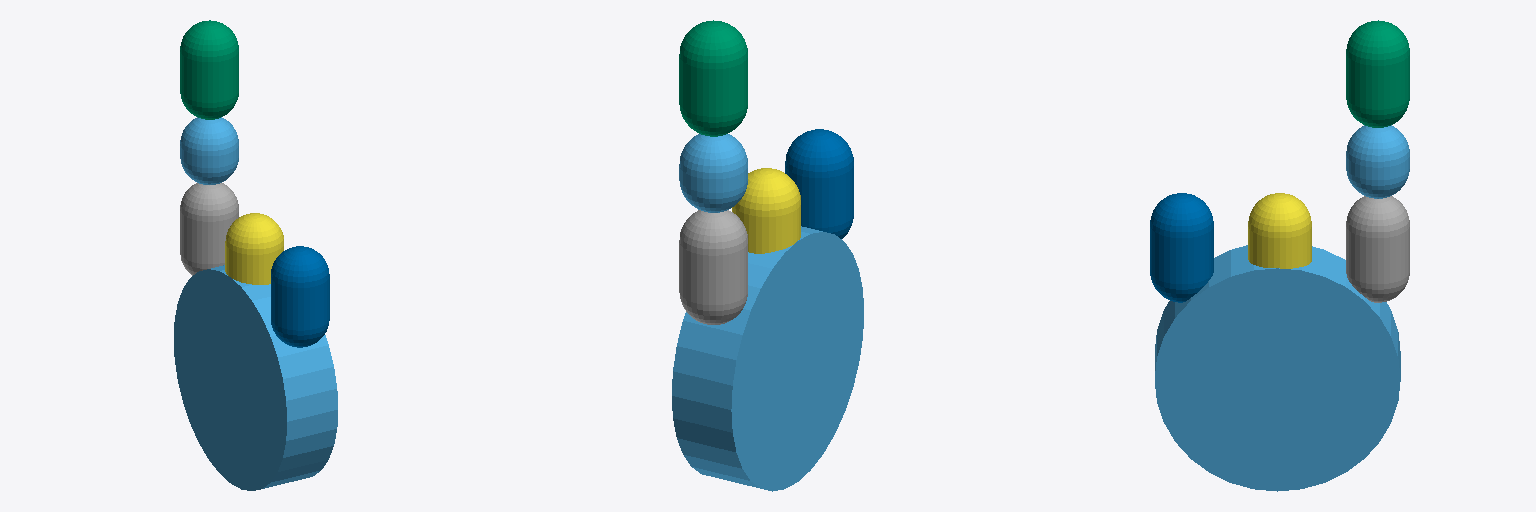
URDF robot description (DexterousHand):
<?xml version="1.0"?>
<robot name="DexterousHand">


    <link name="world"/>
    <joint name="world_to_palm" type="fixed">
        <parent link="world"/>
        <child link="palm"/>
        <origin xyz="0 0 0" rpy="0 0 0"/>
    </joint>
    <link name="palm">
        <inertial>
            <origin xyz="0 0 0.057" rpy="0 0 0"/>
            <mass value="0.30212892864"/>
            <inertia ixx="0.00049080844457568" ixy="0.0" ixz="0.0" iyy="0.00026746366246427523" iyz="0.0" izz="0.00026746366246427523"/>
        </inertial>
        <visual>
            <origin xyz="0 0 0.057" rpy="1.5708 0 1.5708"/>
            <geometry>
                <cylinder radius="0.057" length="0.0296"/>
            </geometry>
            <material name="default"/>
        </visual>
        <collision>
            <origin xyz="0 0 0.057" rpy="1.5708 0 1.5708"/>
            <geometry>
                <cylinder radius="0.057" length="0.0296"/>
            </geometry>
        </collision>
    </link>

    
    <joint name="thumb_joint1" type="revolute">
        <parent link="palm"/>
        <child link="thumb_base"/>
        <origin xyz="0.0 0.0 0.0" rpy="0.0 0.0 0.0"/>
        <axis xyz="1 0 0"/>
        <limit lower="0.0" upper="0.0" effort="1.0" velocity="1.0"/>
    </joint>

    <link name="thumb_base"></link>

    <joint name="thumb_joint2" type="revolute">
        <parent link="thumb_base"/>
        <child link="thumb_proximal"/>
        <origin xyz="0.0 0.0 0.0" rpy="0.0 0.0 0.0"/>
        <axis xyz="0 1 0"/>
        <limit lower="0.0" upper="0.0" effort="1.0" velocity="1.0"/>
    </joint>

    <link name="thumb_proximal">
    </link>

    <joint name="thumb_joint3" type="revolute">
        <parent link="thumb_proximal"/>
        <child link="thumb_knuckle"/>
        <origin xyz="0.0 0.0 0.0" rpy="0.0 0.0 0.0"/>
        <axis xyz="1 0 0"/>
        <limit lower="0.0" upper="0.0" effort="1.0" velocity="1.0"/>
    </joint>

    <link name="thumb_knuckle"></link>

    <joint name="thumb_joint4" type="revolute">
        <parent link="thumb_knuckle"/>
        <child link="thumb_middle"/>
        <origin xyz="0 0 0" rpy="0 0 0"/> 
        <axis xyz="0 1 0"/>
        <limit lower="0.0" upper="0.0" effort="1.0" velocity="1.0"/>
    </joint>

    <link name="thumb_middle">
    </link>

    <joint name="thumb_joint5" type="revolute">
        <parent link="thumb_middle"/>
        <child link="thumb_distal"/>
        <origin xyz="0 0 0" rpy="0 0 0"/> 
        <axis xyz="0 1 0"/>
        <limit lower="0.0" upper="0.0" effort="1.0" velocity="1.0"/>
    </joint>

    <link name="thumb_distal">
    </link>

    
    <joint name="index_joint1" type="revolute">
        <parent link="palm"/>
        <child link="index_proximal"/>
        <origin xyz="0.0 0.0465 0.091" rpy="0.0 0.0 0.0"/>
        <axis xyz="0 1 0"/>
        <limit lower="-0.314" upper="2.23" effort="1.0" velocity="1.0"/>
    </joint>

    <link name="index_proximal">
        <inertial>
            <origin xyz="0 0 0.02655" rpy="0 0 0"/>
            <mass value="0.036540024998400006"/>
            <inertia ixx="1.058665009272394e-05" ixy="0.0" ixz="0.0" 
            iyy="1.058665009272394e-05" iyz="0.0" izz="4.001863537824769e-06"/>
        </inertial>
        <visual>
            <origin xyz="0 0 0.02655" rpy="0 0 0"/>
            <geometry>
                <cylinder radius="0.0148" length="0.0235"/>
            </geometry>
            <material name="default"/>
        </visual>
        <visual>
            <origin xyz="0 0 0.0148" rpy="0 0 0"/>
            <geometry>
                <sphere radius="0.0148"/>
            </geometry>
            <material name="default"/>
        </visual>
        <visual>
            <origin xyz="0 0 0.0383" rpy="0 0 0"/>
            <geometry>
                <sphere radius="0.0148"/>
            </geometry>
            <material name="default"/>
        </visual>
        <collision>
            <origin xyz="0 0 0.02655" rpy="0 0 0"/>
            <geometry>
                <cylinder radius="0.0148" length="0.0235"/>
            </geometry>
        </collision>
        <collision>
            <origin xyz="0 0 0.0148" rpy="0 0 0"/>
            <geometry>
                <sphere radius="0.0148"/>
            </geometry>
        </collision>
        <collision>
            <origin xyz="0 0 0.0383" rpy="0 0 0"/>
            <geometry>
                <sphere radius="0.0148"/>
            </geometry>
        </collision>
    </link>

    <joint name="index_joint2" type="revolute">
        <parent link="index_proximal"/>
        <child link="index_dummy"/>
        <origin xyz="0.0 0.0 0.038" rpy="0.0 0.0 0.0"/>
        <axis xyz="1 0 0"/>
        <limit lower="-1.047" upper="1.047" effort="1.0" velocity="1.0"/>
    </joint>

    <link name="index_dummy"></link>

    <joint name="index_joint3" type="revolute">
        <parent link="index_dummy"/>
        <child link="index_middle"/>
        <origin xyz="0 0 0.015100000000000002" rpy="0 0 0"/>
        <axis xyz="0 1 0"/>
        <limit lower="-0.506" upper="1.885" effort="1.0" velocity="1.0"/>
    </joint>

    <link name="index_middle">
        <inertial>
            <origin xyz="0 0 0.01805" rpy="0 0 0"/>
            <mass value="0.0248417119104"/>
            <inertia ixx="4.058162759109537e-06" ixy="0.0" ixz="0.0" 
            iyy="4.058162759109537e-06" iyz="0.0" izz="2.7206642884270085e-06"/>
        </inertial>
        <visual>
            <origin xyz="0 0 0.01805" rpy="0 0 0"/>
            <geometry>
                <cylinder radius="0.0148" length="0.006499999999999999"/>
            </geometry>
            <material name="default"/>
        </visual>
        <visual>
            <origin xyz="0 0 0.0148" rpy="0 0 0"/>
            <geometry>
                <sphere radius="0.0148"/>
            </geometry>
            <material name="default"/>
        </visual>
        <visual>
            <origin xyz="0 0 0.0213" rpy="0 0 0"/>
            <geometry>
                <sphere radius="0.0148"/>
            </geometry>
            <material name="default"/>
        </visual>
        <collision>
            <origin xyz="0 0 0.01805" rpy="0 0 0"/>
            <geometry>
                <cylinder radius="0.0148" length="0.006499999999999999"/>
            </geometry>
        </collision>
        <collision>
            <origin xyz="0 0 0.0148" rpy="0 0 0"/>
            <geometry>
                <sphere radius="0.0148"/>
            </geometry>
        </collision>
        <collision>
            <origin xyz="0 0 0.0213" rpy="0 0 0"/>
            <geometry>
                <sphere radius="0.0148"/>
            </geometry>
        </collision>
    </link>

    <joint name="index_joint4" type="revolute">
        <parent link="index_middle"/>
        <child link="index_distal"/>
        <origin xyz="0 0 0.0361" rpy="0 0 0"/> 
        <axis xyz="0 1 0"/>
        <limit lower="-0.366" upper="2.042" effort="1.0" velocity="1.0"/>
    </joint>

    <link name="index_distal">
        <inertial>
            <origin xyz="0 0 0.026" rpy="0 0 0"/>
            <mass value="0.035783075328"/>
            <inertia ixx="1.002260084553728e-05" ixy="0.0" ixz="0.0" 
            iyy="1.002260084553728e-05" iyz="0.0" izz="3.91896240992256e-06"/>
        </inertial>
        <visual>
            <origin xyz="0 0 0.026" rpy="0 0 0"/>
            <geometry>
                <cylinder radius="0.0148" length="0.022399999999999996"/>
            </geometry>
            <material name="default"/>
        </visual>
        <visual>
            <origin xyz="0 0 0.0148" rpy="0 0 0"/>
            <geometry>
                <sphere radius="0.0148"/>
            </geometry>
            <material name="default"/>
        </visual>
        <visual>
            <origin xyz="0 0 0.0372" rpy="0 0 0"/>
            <geometry>
                <sphere radius="0.0148"/>
            </geometry>
            <material name="default"/>
        </visual>
        <collision>
            <origin xyz="0 0 0.026" rpy="0 0 0"/>
            <geometry>
                <cylinder radius="0.0148" length="0.022399999999999996"/>
            </geometry>
        </collision>
        <collision>
            <origin xyz="0 0 0.0148" rpy="0 0 0"/>
            <geometry>
                <sphere radius="0.0148"/>
            </geometry>
        </collision>
        <collision>
            <origin xyz="0 0 0.0372" rpy="0 0 0"/>
            <geometry>
                <sphere radius="0.0148"/>
            </geometry>
        </collision>
    </link>

    
    <joint name="middle_joint1" type="revolute">
        <parent link="palm"/>
        <child link="middle_proximal"/>
        <origin xyz="0.0 0.0011 0.091" rpy="0.0 0.0 0.0"/>
        <axis xyz="0 1 0"/>
        <limit lower="-0.314" upper="2.23" effort="1.0" velocity="1.0"/>
    </joint>

    <link name="middle_proximal">
        <inertial>
            <origin xyz="0 0 0.02655" rpy="0 0 0"/>
            <mass value="0.036540024998400006"/>
            <inertia ixx="1.058665009272394e-05" ixy="0.0" ixz="0.0" 
            iyy="1.058665009272394e-05" iyz="0.0" izz="4.001863537824769e-06"/>
        </inertial>
        <visual>
            <origin xyz="0 0 0.02655" rpy="0 0 0"/>
            <geometry>
                <cylinder radius="0.0148" length="0.0235"/>
            </geometry>
            <material name="default"/>
        </visual>
        <visual>
            <origin xyz="0 0 0.0148" rpy="0 0 0"/>
            <geometry>
                <sphere radius="0.0148"/>
            </geometry>
            <material name="default"/>
        </visual>
        <visual>
            <origin xyz="0 0 0.0383" rpy="0 0 0"/>
            <geometry>
                <sphere radius="0.0148"/>
            </geometry>
            <material name="default"/>
        </visual>
        <collision>
            <origin xyz="0 0 0.02655" rpy="0 0 0"/>
            <geometry>
                <cylinder radius="0.0148" length="0.0235"/>
            </geometry>
        </collision>
        <collision>
            <origin xyz="0 0 0.0148" rpy="0 0 0"/>
            <geometry>
                <sphere radius="0.0148"/>
            </geometry>
        </collision>
        <collision>
            <origin xyz="0 0 0.0383" rpy="0 0 0"/>
            <geometry>
                <sphere radius="0.0148"/>
            </geometry>
        </collision>
    </link>

    <joint name="middle_joint2" type="revolute">
        <parent link="middle_proximal"/>
        <child link="middle_dummy"/>
        <origin xyz="0.0 0.0 0.038" rpy="0.0 0.0 0.0"/>
        <axis xyz="0 1 0"/>
        <limit lower="0.0" upper="0.0" effort="1.0" velocity="1.0"/>
    </joint>

    <link name="middle_dummy"></link>

    <joint name="middle_joint3" type="revolute">
        <parent link="middle_dummy"/>
        <child link="middle_middle"/>
        <origin xyz="0 0 0.015100000000000002" rpy="0 0 0"/>
        <axis xyz="0 1 0"/>
        <limit lower="0.0" upper="0.0" effort="1.0" velocity="1.0"/>
    </joint>

    <link name="middle_middle">
    </link>

    <joint name="middle_joint4" type="revolute">
        <parent link="middle_middle"/>
        <child link="middle_distal"/>
        <origin xyz="0 0 0" rpy="0 0 0"/> 
        <axis xyz="0 1 0"/>
        <limit lower="0.0" upper="0.0" effort="1.0" velocity="1.0"/>
    </joint>

    <link name="middle_distal">
    </link>

    
    <joint name="ring_joint1" type="revolute">
        <parent link="palm"/>
        <child link="ring_proximal"/>
        <origin xyz="0.0 0.0 0.0" rpy="0.0 0.0 0.0"/>
        <axis xyz="1 0 0"/>
        <limit lower="0.0" upper="0.0" effort="1.0" velocity="1.0"/>
    </joint>

    <link name="ring_proximal">
    </link>

    <joint name="ring_joint2" type="revolute">
        <parent link="ring_proximal"/>
        <child link="ring_dummy"/>
        <origin xyz="0.0 0.0 0.0" rpy="0.0 0.0 0.0"/>
        <axis xyz="0 1 0"/>
        <limit lower="0.0" upper="0.0" effort="1.0" velocity="1.0"/>
    </joint>

    <link name="ring_dummy"></link>

    <joint name="ring_joint3" type="revolute">
        <parent link="ring_dummy"/>
        <child link="ring_middle"/>
        <origin xyz="0 0 0" rpy="0 0 0"/>
        <axis xyz="0 1 0"/>
        <limit lower="0.0" upper="0.0" effort="1.0" velocity="1.0"/>
    </joint>

    <link name="ring_middle">
    </link>

    <joint name="ring_joint4" type="revolute">
        <parent link="ring_middle"/>
        <child link="ring_distal"/>
        <origin xyz="0 0 0" rpy="0 0 0"/> 
        <axis xyz="0 1 0"/>
        <limit lower="0.0" upper="0.0" effort="1.0" velocity="1.0"/>
    </joint>

    <link name="ring_distal">
    </link>

    
    <joint name="little_joint0" type="revolute">
        <parent link="palm"/>
        <child link="little_base"/>
        <origin xyz="0.0 0.0 0.0" rpy="0.0 0.0 0.0"/>
        <axis xyz="0 1 0"/>
        <limit lower="0.0" upper="0.0" effort="1.0" velocity="1.0"/>
    </joint>

    <link name="little_base"></link>

    <joint name="little_joint1" type="revolute">
        <parent link="little_base"/>
        <child link="little_proximal"/>
        <origin xyz="0.0 -0.0443 0.091" rpy="-0.0 -0.0 -0.0"/>
        <axis xyz="0 1 0"/>
        <limit lower="-0.314" upper="2.23" effort="1.0" velocity="1.0"/>
    </joint>

    <link name="little_proximal">
        <inertial>
            <origin xyz="0 0 0.02655" rpy="0 0 0"/>
            <mass value="0.036540024998400006"/>
            <inertia ixx="1.058665009272394e-05" ixy="0.0" ixz="0.0" 
            iyy="1.058665009272394e-05" iyz="0.0" izz="4.001863537824769e-06"/>
        </inertial>
        <visual>
            <origin xyz="0 0 0.02655" rpy="0 0 0"/>
            <geometry>
                <cylinder radius="0.0148" length="0.0235"/>
            </geometry>
            <material name="default"/>
        </visual>
        <visual>
            <origin xyz="0 0 0.0148" rpy="0 0 0"/>
            <geometry>
                <sphere radius="0.0148"/>
            </geometry>
            <material name="default"/>
        </visual>
        <visual>
            <origin xyz="0 0 0.0383" rpy="0 0 0"/>
            <geometry>
                <sphere radius="0.0148"/>
            </geometry>
            <material name="default"/>
        </visual>
        <collision>
            <origin xyz="0 0 0.02655" rpy="0 0 0"/>
            <geometry>
                <cylinder radius="0.0148" length="0.0235"/>
            </geometry>
        </collision>
        <collision>
            <origin xyz="0 0 0.0148" rpy="0 0 0"/>
            <geometry>
                <sphere radius="0.0148"/>
            </geometry>
        </collision>
        <collision>
            <origin xyz="0 0 0.0383" rpy="0 0 0"/>
            <geometry>
                <sphere radius="0.0148"/>
            </geometry>
        </collision>
    </link>

    <joint name="little_joint2" type="revolute">
        <parent link="little_proximal"/>
        <child link="little_dummy"/>
        <origin xyz="0.0 0.0 0.038" rpy="0.0 0.0 0.0"/>
        <axis xyz="0 1 0"/>
        <limit lower="0.0" upper="0.0" effort="1.0" velocity="1.0"/>
    </joint>

    <link name="little_dummy"></link>

    <joint name="little_joint3" type="revolute">
        <parent link="little_dummy"/>
        <child link="little_middle"/>
        <origin xyz="0 0 0.015100000000000002" rpy="0 0 0"/>
        <axis xyz="0 1 0"/>
        <limit lower="0.0" upper="0.0" effort="1.0" velocity="1.0"/>
    </joint>

    <link name="little_middle">
    </link>

    <joint name="little_joint4" type="revolute">
        <parent link="little_middle"/>
        <child link="little_distal"/>
        <origin xyz="0 0 0" rpy="0 0 0"/>
        <axis xyz="0 1 0"/>
        <limit lower="0.0" upper="0.0" effort="1.0" velocity="1.0"/>
    </joint>

    <link name="little_distal">
    </link>

</robot>

--- What the picture shows (computed from the rendered views, not written in the file) ---
The picture shows the robot from 3 angles, left to right: view 1: azimuth 30°, elevation 25°; view 2: azimuth 150°, elevation 25°; view 3: azimuth 270°, elevation 25°; orthographic projection.
Model DexterousHand with 24 links and 23 joints (22 revolute, 1 fixed), rooted at world, posed every joint at zero.
Visible links, largest first — view 1: palm, little_proximal, index_distal, index_proximal, middle_proximal, index_middle; view 2: palm, index_proximal, index_distal, little_proximal, index_middle, middle_proximal; view 3: palm, index_distal, little_proximal, index_proximal, middle_proximal, index_middle.
Boxes of the visible links, x1,y1,x2,y2 form: palm: (174, 265, 337, 490); little_proximal: (271, 246, 329, 347); index_distal: (180, 20, 238, 119); index_proximal: (180, 183, 238, 275); middle_proximal: (225, 213, 283, 284); index_middle: (180, 117, 238, 184); palm: (672, 226, 863, 491); index_proximal: (679, 210, 747, 324); index_distal: (679, 20, 747, 136); little_proximal: (785, 129, 853, 238); index_middle: (679, 134, 747, 212); middle_proximal: (732, 168, 800, 253); palm: (1155, 245, 1400, 491); index_distal: (1346, 20, 1409, 127); little_proximal: (1150, 193, 1213, 302); index_proximal: (1346, 196, 1409, 302); middle_proximal: (1248, 193, 1311, 268); index_middle: (1346, 125, 1409, 198).
Bounding box of the posed robot: 0.0296 × 0.1204 × 0.2322 m (x, y, z).
Geometry: primitives only (box / cylinder / sphere), no mesh files.
